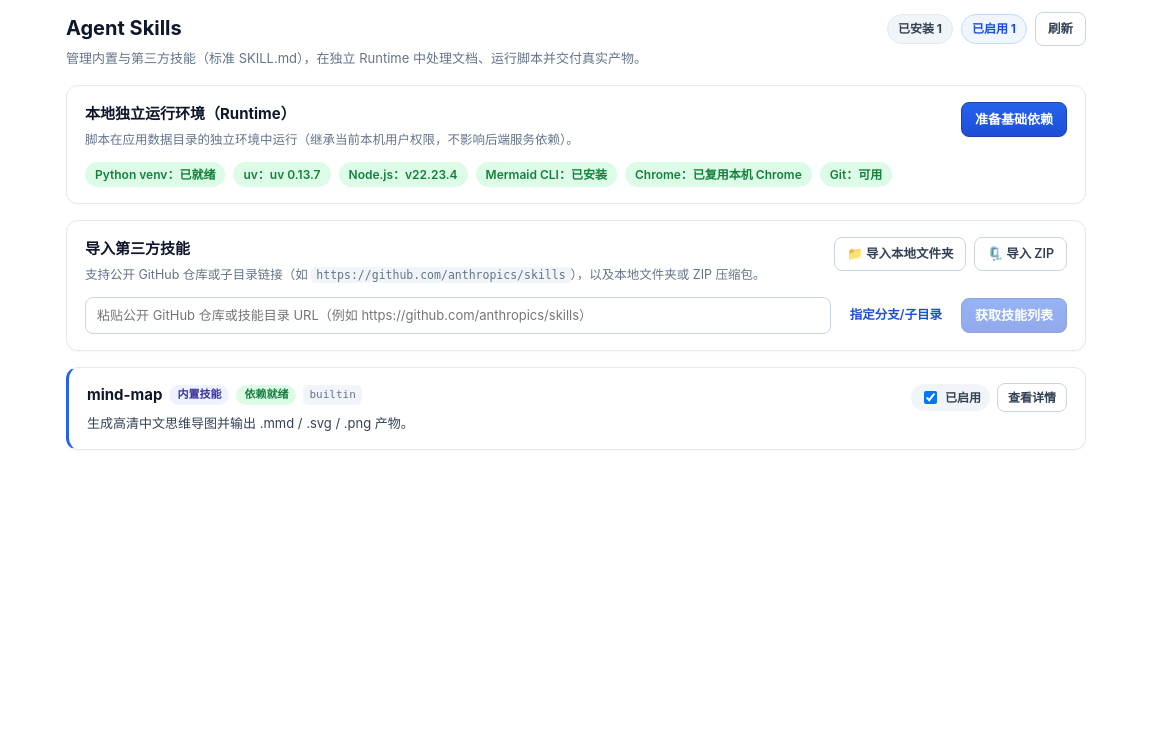
Test: lists installed skills, previews GitHub repo, selectively installs, and toggles skill
Expected: the heading "mind-map" is shown, [87,383,162,407]
Expected: the text "Python venv：已就绪" is shown, [85,162,225,187]
// Preview GitHub repo
Replace the text in the field with placeholder "粘贴公开 GitHub 仓库" with "https://github.com/anthropics/skills" at (458, 315), box [85,297,831,334]
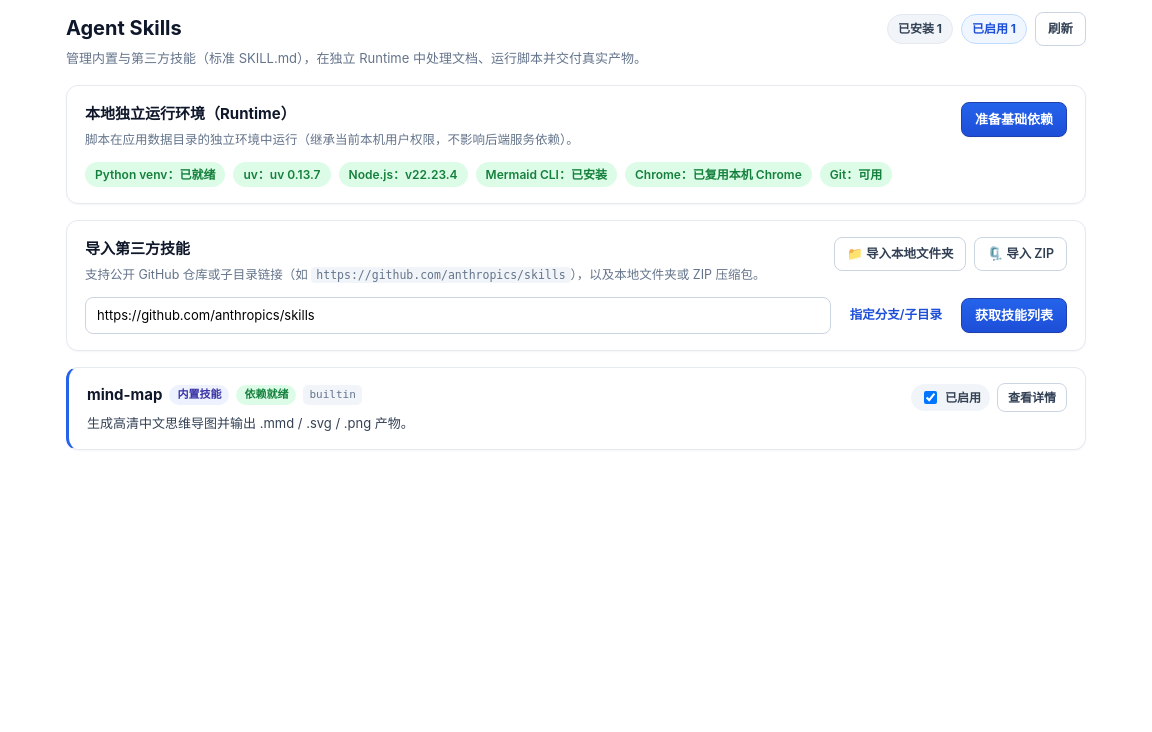
Click the button "获取技能列表".
click(1014, 315)  # box [961,298,1067,333]
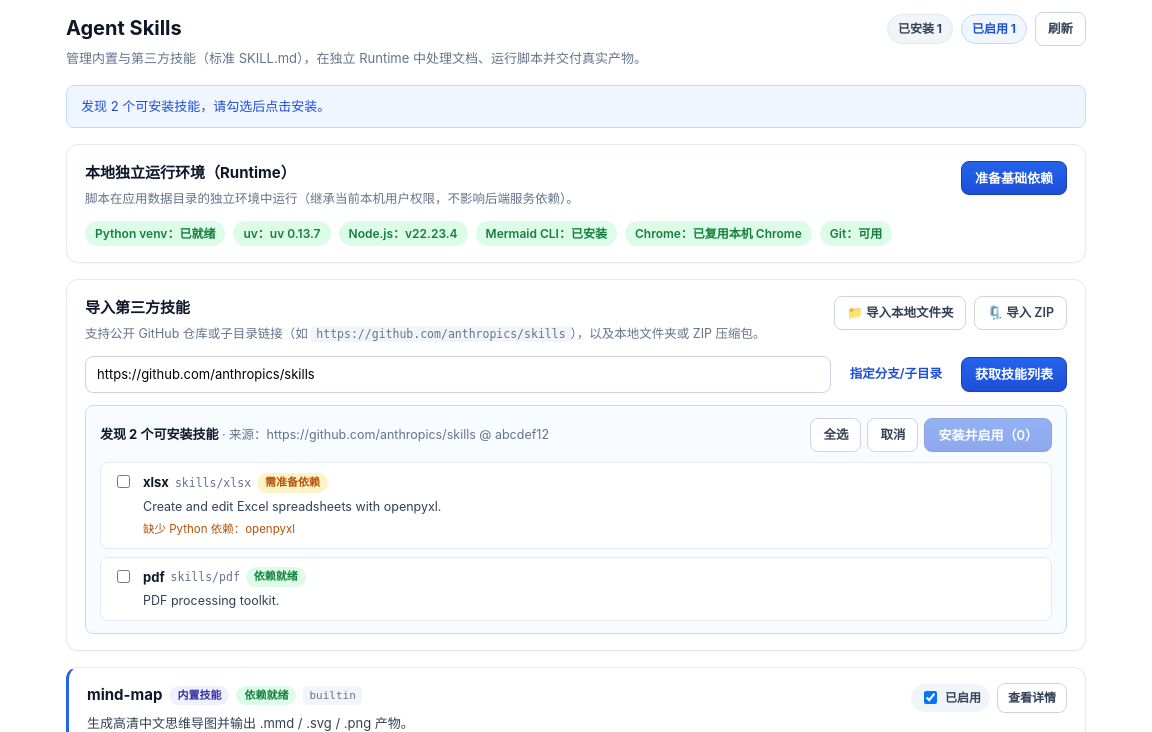
Expected: the text "发现 2 个可安装技能" is shown, [100,426,218,442]
Expected: the text "skills/xlsx" is shown, [175,474,251,492]
Expected: the text "skills/pdf" is shown, [171,568,240,586]
// Select only xlsx and install
Click the 1st checkbox.
click(124, 482)  # box [117,475,130,488]
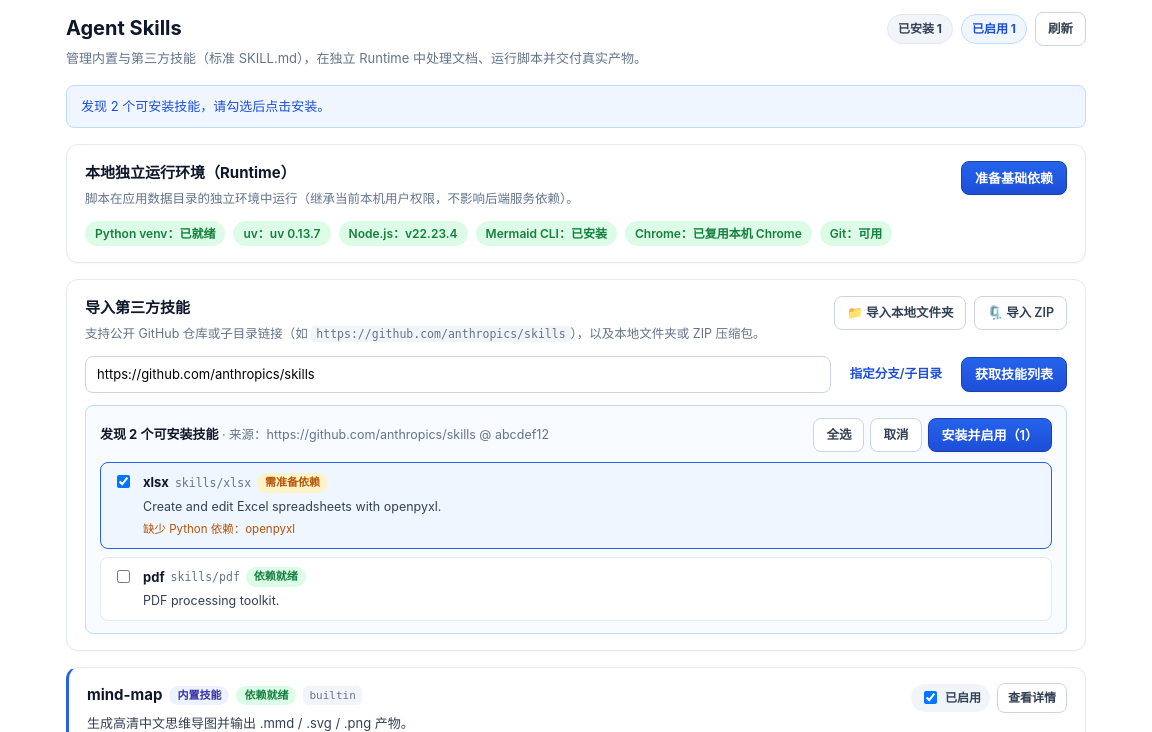
Click the button "安装并启用（1）".
click(990, 435)  # box [928,418,1052,452]
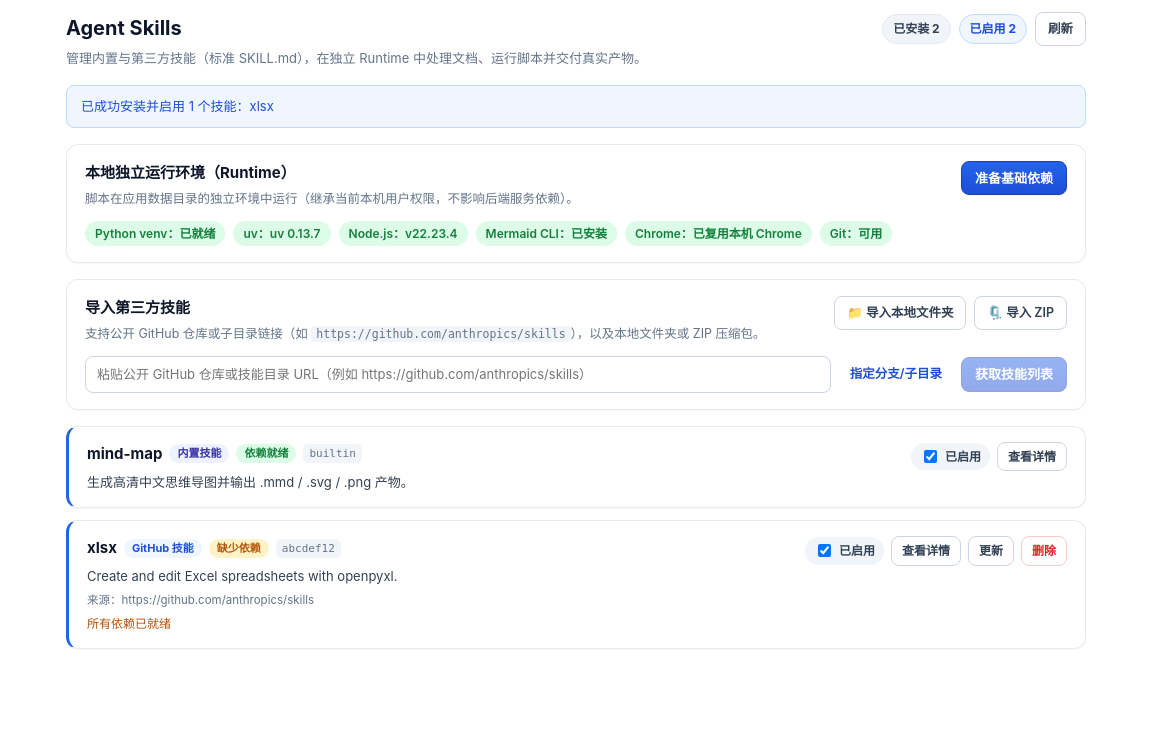
Expected: the heading "xlsx" is shown, [87,536,117,560]
Expected: the text "已成功安装并启用 1 个技能：xlsx" is shown, [66,85,1086,128]
